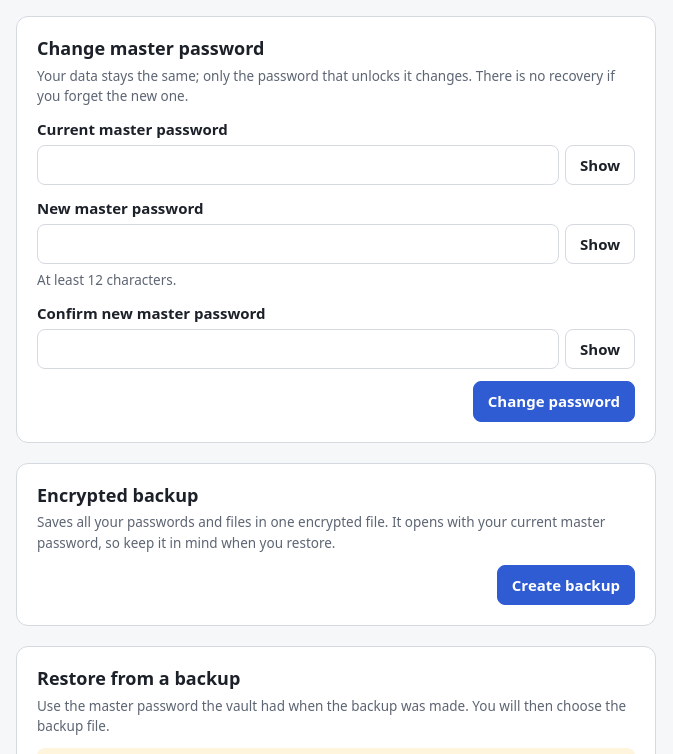
Scenario: SettingsTab › reports a wrong current password
Type "wrong test phrase" into the password field labelled "Current master password" at (298, 165), box [37,144,559,185]
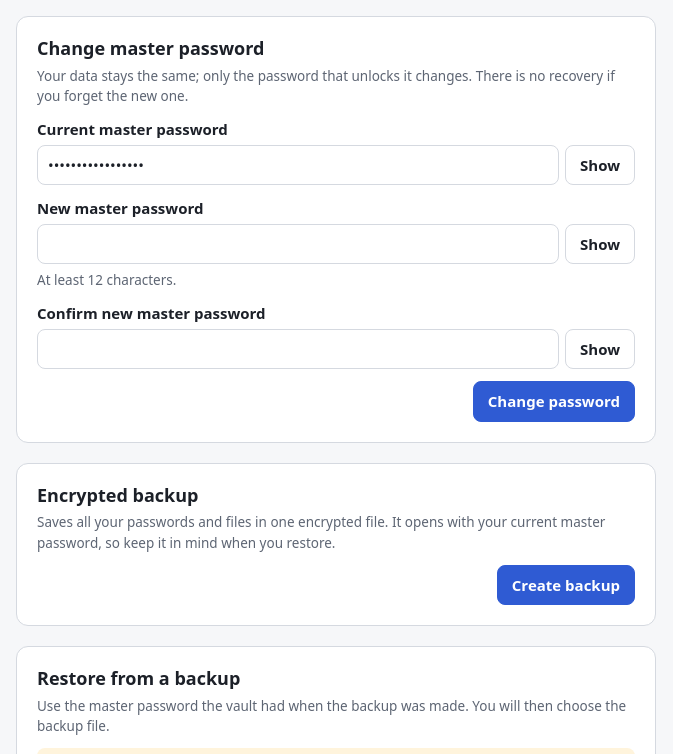
Type "new test phrase!" into the password field labelled "New master password" at (298, 244), box [37,224,559,264]
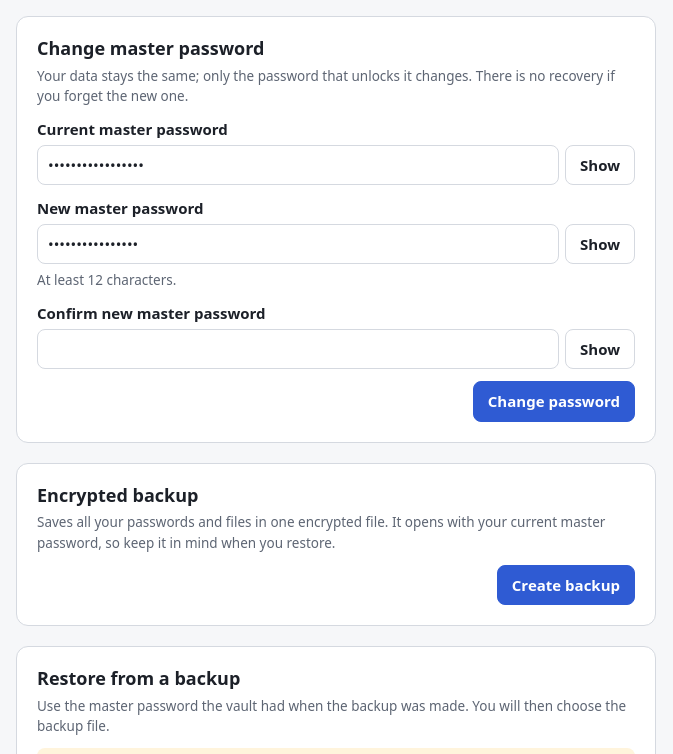
Type "new test phrase!" into the password field labelled "Confirm new master password" at (298, 349), box [37,329,559,369]
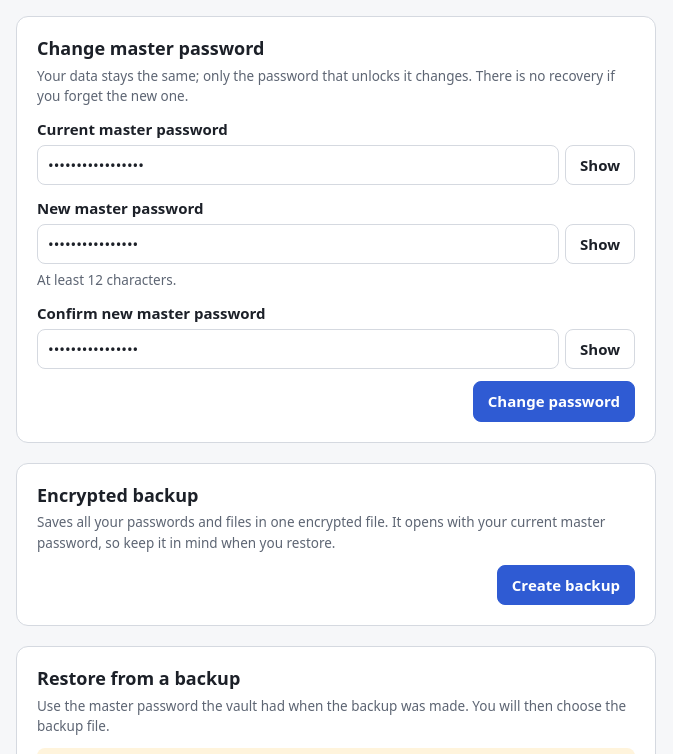
Click the button "Change password" at (554, 402), box [473,381,635,422]
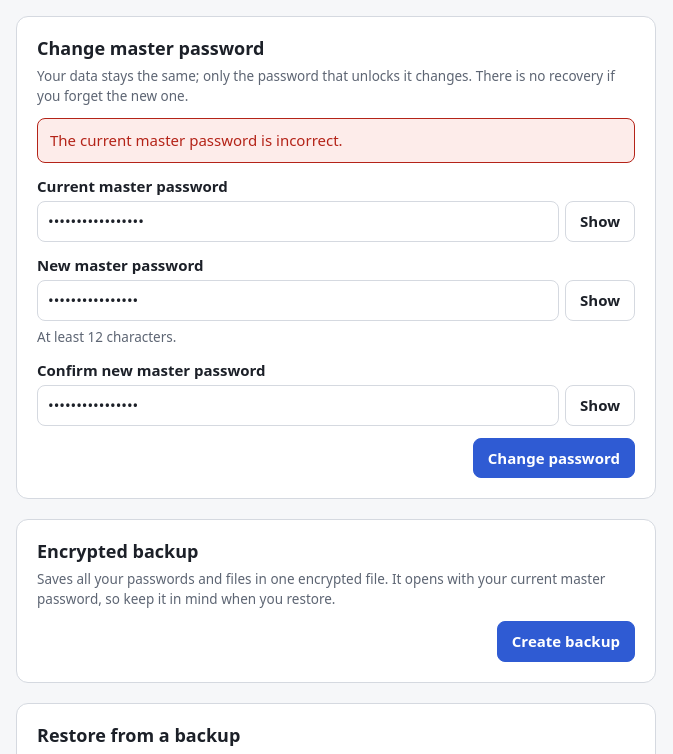
Expected: the message reads "The current master password is incorrect.", [50,130,343,150]
